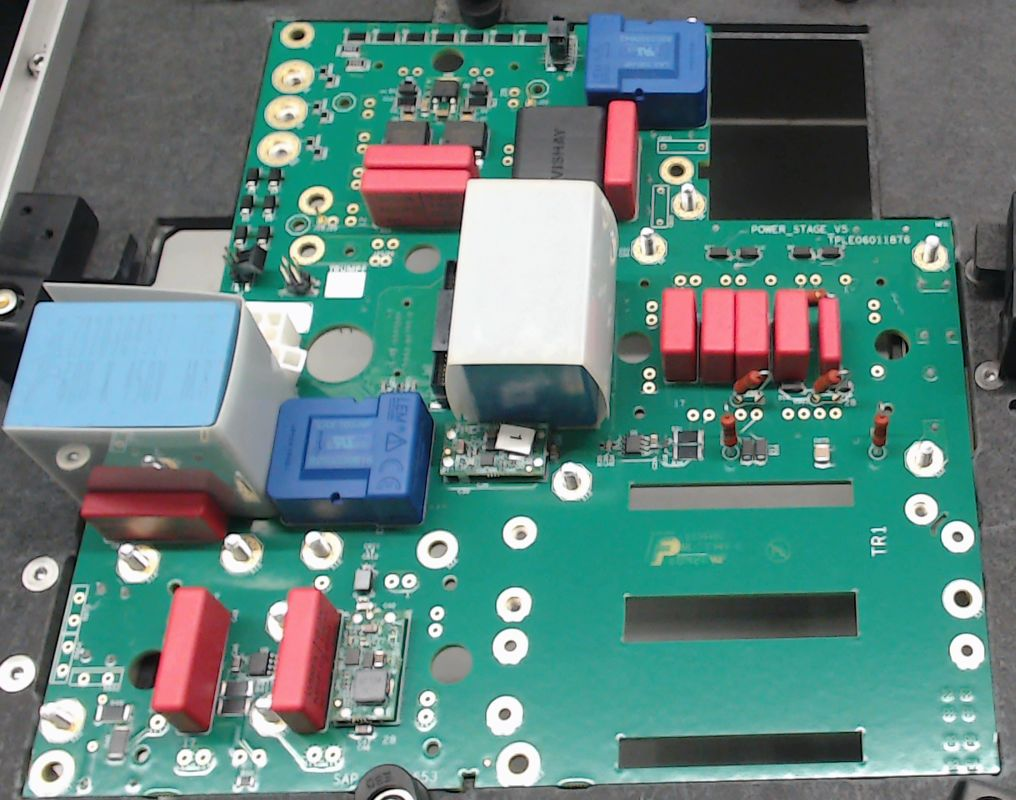comp1: (269, 392, 436, 527), (584, 15, 710, 125)
comp2: (153, 589, 235, 740), (267, 589, 340, 733), (77, 490, 226, 542), (361, 167, 472, 232), (601, 100, 640, 222), (655, 285, 699, 385), (733, 285, 771, 389), (771, 288, 810, 384), (701, 287, 735, 387), (360, 143, 476, 168), (818, 295, 840, 374)
comp3: (514, 99, 609, 183)
comp4: (1, 278, 297, 523), (445, 179, 620, 428)
